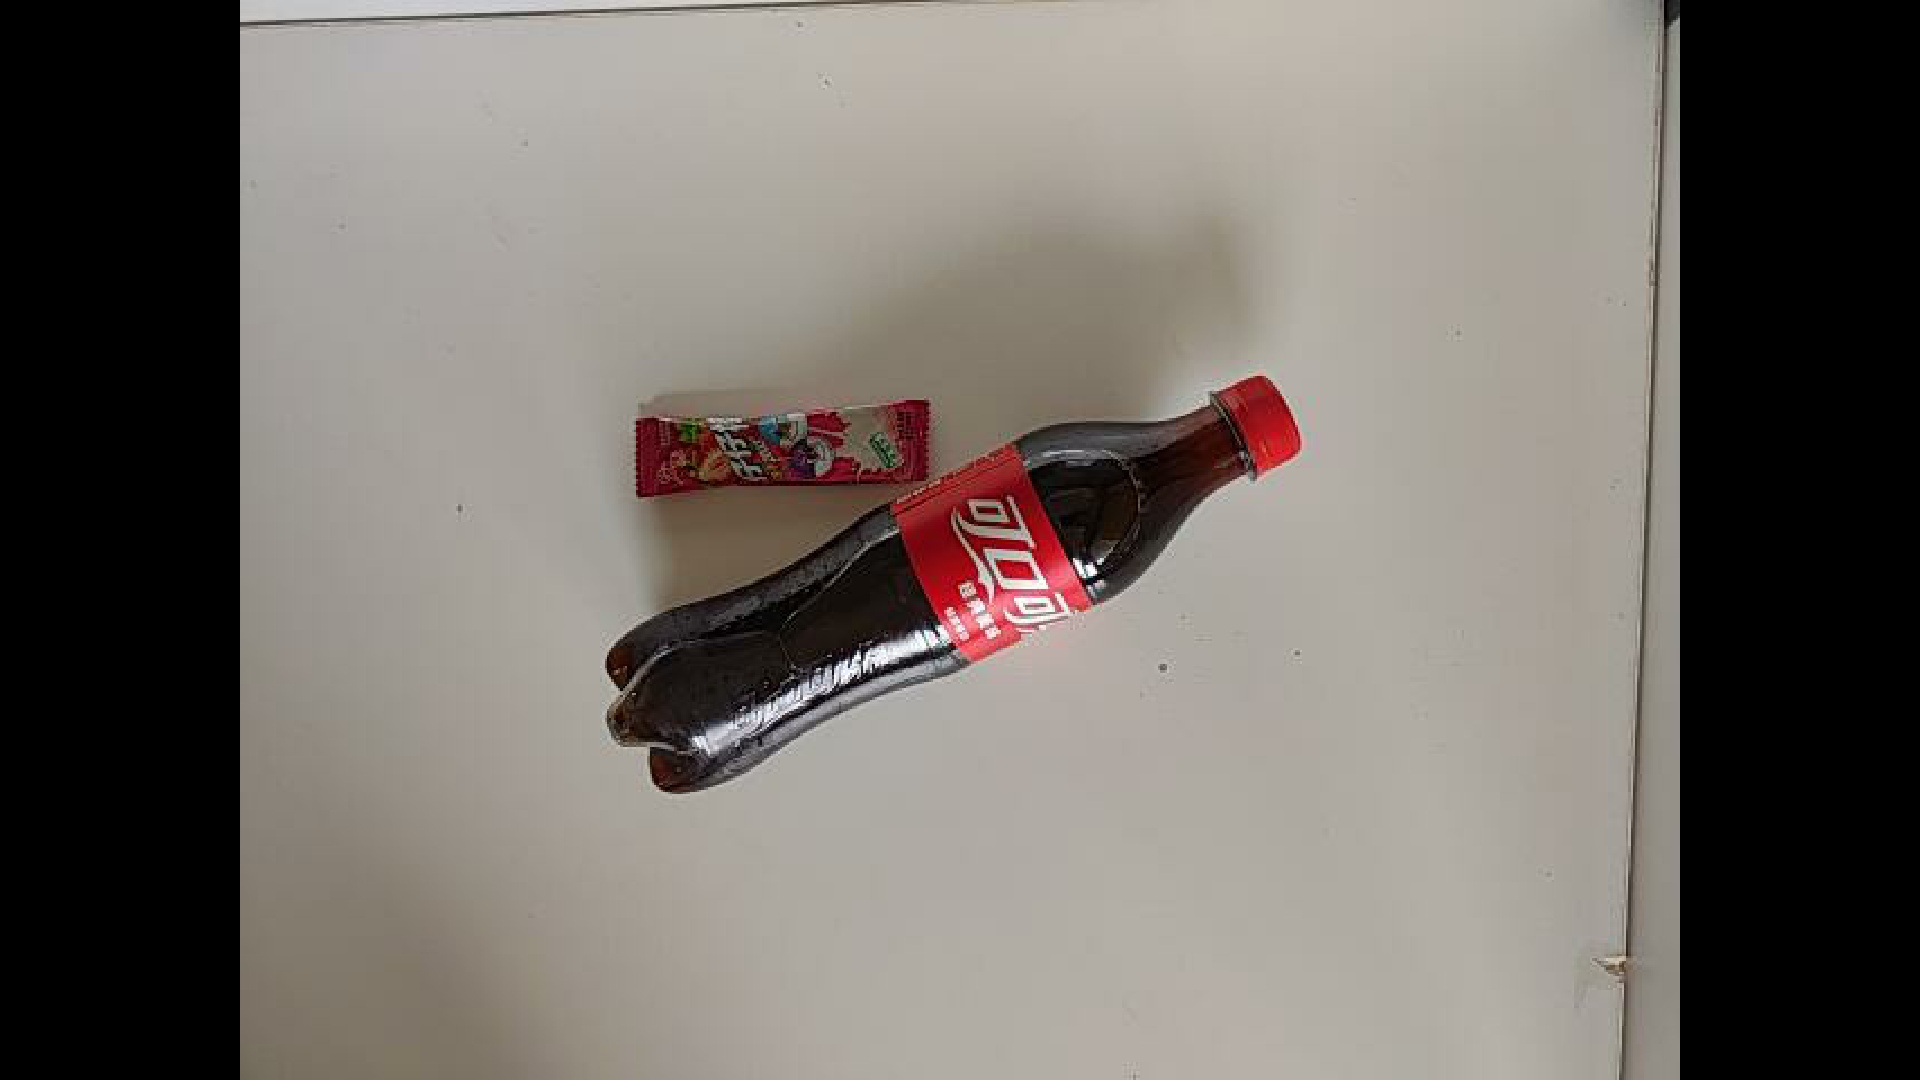cola: (37, 324, 1333, 746)
sugar: (630, 406, 938, 498)
